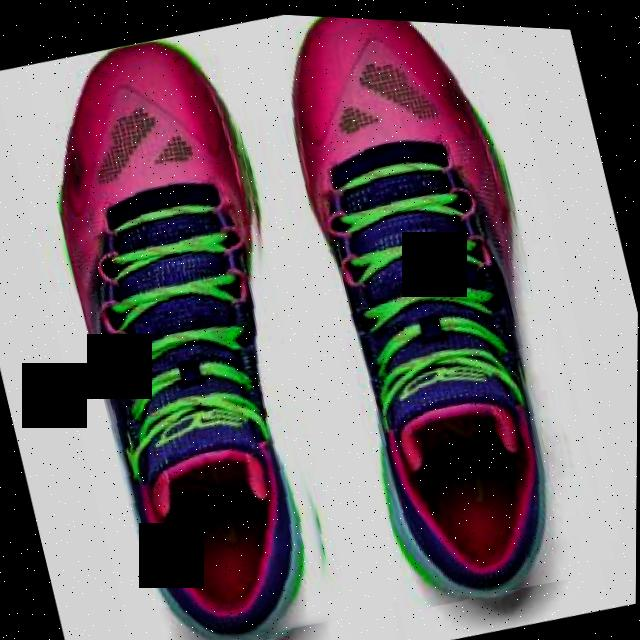shoe: (20, 17, 364, 640), (262, 11, 607, 615)
